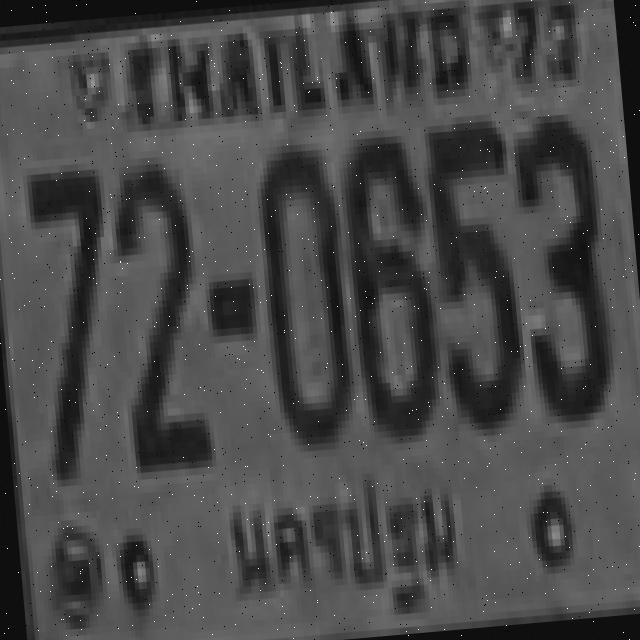0: (252, 138, 354, 444)
2: (104, 158, 210, 470)
3: (507, 105, 613, 418)
5: (422, 116, 528, 428)
6: (336, 128, 438, 432)
7: (22, 162, 120, 474)
NakhonPathom: (212, 453, 477, 640)
